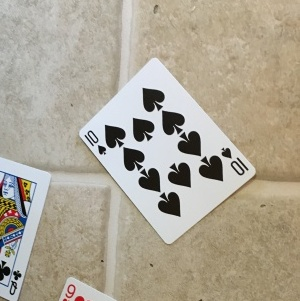card: (79, 56, 258, 245)
